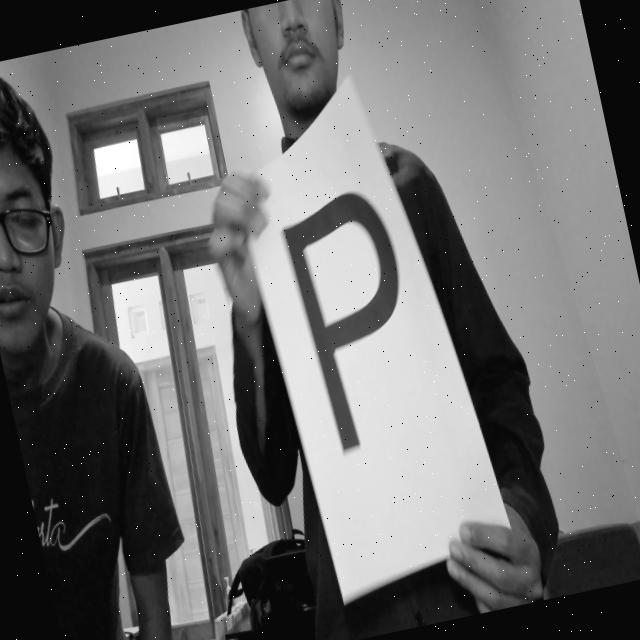p: (259, 169, 435, 472)
